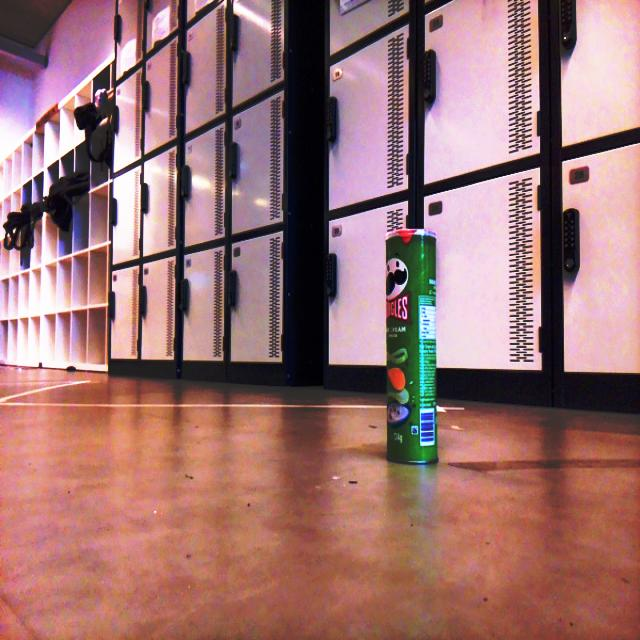greenpringles: (375, 204, 457, 472)
